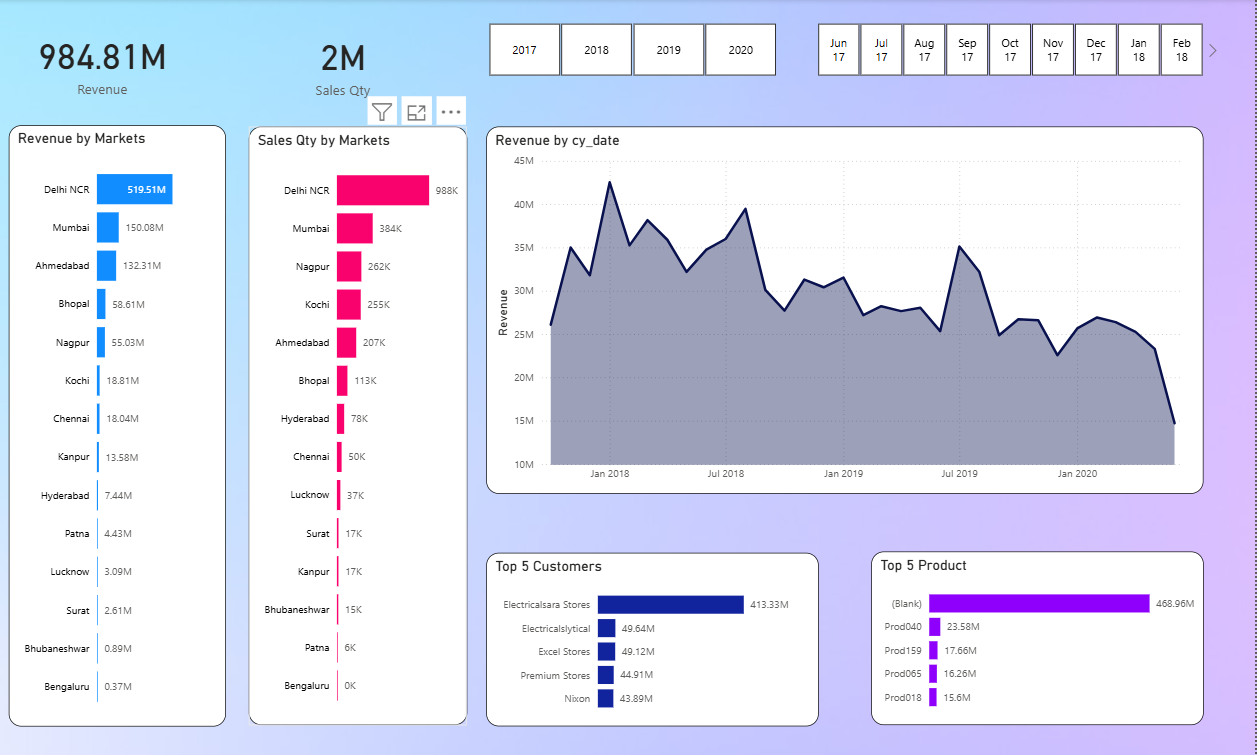

The dashboard page shown, as its layout file describes it:
{"tool":"powerbi","page":{"name":"Page 1","canvas":[1500,950],"ordinal":0},"visuals":[{"type":"card","fields":{"Values":["BaseMeasures.Revenue"]},"box":[10.4,0,223.8,150.7],"z":0},{"type":"card","fields":{"Values":["BaseMeasures.Sales Qty"]},"box":[296.9,0,225.3,152.2],"z":1000},{"type":"barChart","title":"Revenue by Markets","fields":{"Y":["BaseMeasures.Revenue"],"Category":["sales markets.markets_name"]},"box":[10.4,150.7,259.6,717.6],"z":2000},{"type":"barChart","title":"Sales Qty by Markets","fields":{"Y":["BaseMeasures.Sales Qty"],"Category":["sales markets.markets_name"]},"box":[296.9,152.2,261.1,714.6],"z":3000},{"type":"slicer","fields":{"Values":["sales date.year"]},"box":[557.9,22.4,392.4,76.1],"z":4000},{"type":"slicer","fields":{"Values":["sales date.cy_date"]},"box":[950.3,22.4,508.7,76.1],"z":5000},{"type":"barChart","title":"Top 5 Customers","fields":{"Y":["BaseMeasures.Revenue"],"Category":["sales customers.custmer_name"]},"box":[580.3,660.9,396.8,207.4],"z":6000},{"type":"barChart","title":"Top 5 Product","fields":{"Y":["BaseMeasures.Revenue"],"Category":["sales products.product_code"]},"box":[1039.8,659.4,396.8,207.4],"z":7000},{"type":"lineChart","fields":{"Y":["BaseMeasures.Revenue"],"Category":["sales date.cy_date"]},"box":[580.3,152.2,856.3,438.6],"z":8000}]}

Visuals, with their boxes on the page's 1500x950 design canvas (x1, y1, x2, y2). These are canvas units, not pixel positions in the 1257x755 screenshot, which may show the page scaled, cropped or inside an application window:
card - BaseMeasures.Revenue: box=[10, 0, 234, 151]
card - BaseMeasures.Sales Qty: box=[297, 0, 522, 152]
"Revenue by Markets" barChart: box=[10, 151, 270, 868]
"Sales Qty by Markets" barChart: box=[297, 152, 558, 867]
slicer - sales date.year: box=[558, 22, 950, 98]
slicer - sales date.cy_date: box=[950, 22, 1459, 98]
"Top 5 Customers" barChart: box=[580, 661, 977, 868]
"Top 5 Product" barChart: box=[1040, 659, 1437, 867]
lineChart - BaseMeasures.Revenue x sales date.cy_date: box=[580, 152, 1437, 591]
